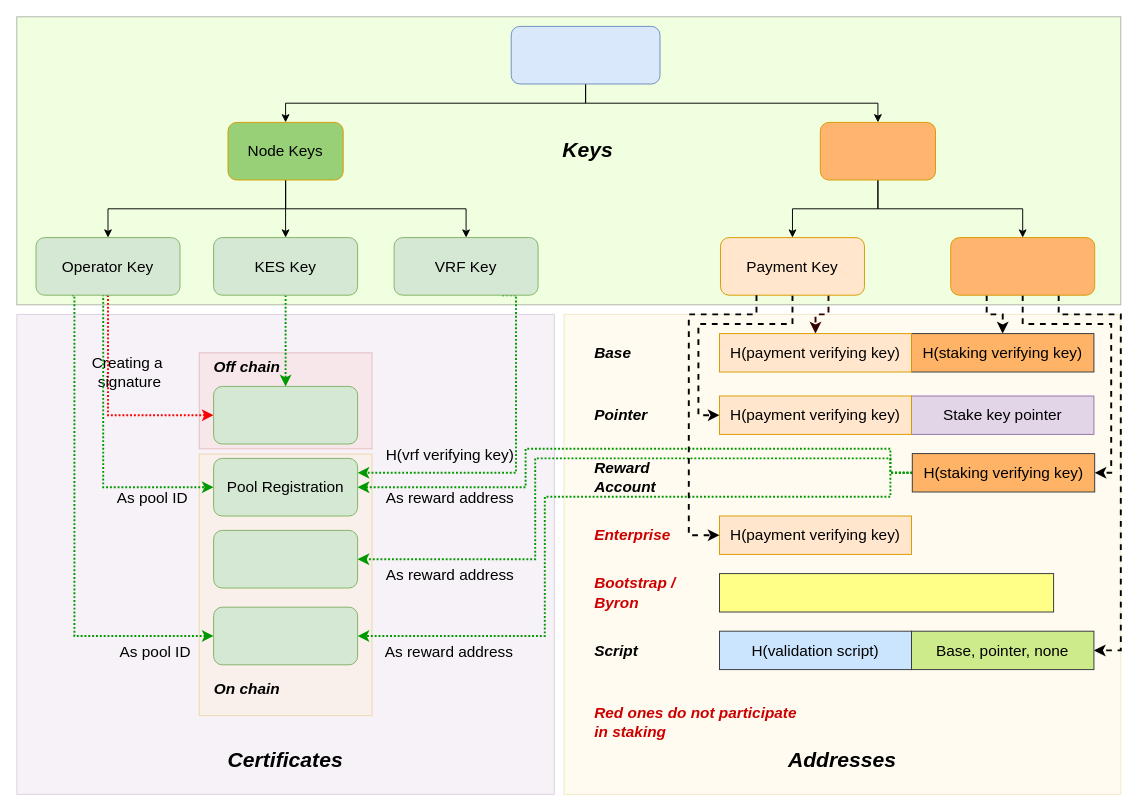
The diagram is 1146 pixels wide and 811 high, and some of its shapes have lost their labels. Each missing label, with the box of its shape:
Address Key: (819, 121, 936, 180)
Byron legacy address: (719, 573, 1054, 612)
Operational: (213, 385, 358, 444)
Shelley Keys: (510, 25, 660, 84)
Stake Address Delegation: (213, 606, 358, 665)
Stake Address Registration: (213, 529, 358, 588)
Staking Key: (950, 237, 1095, 295)
